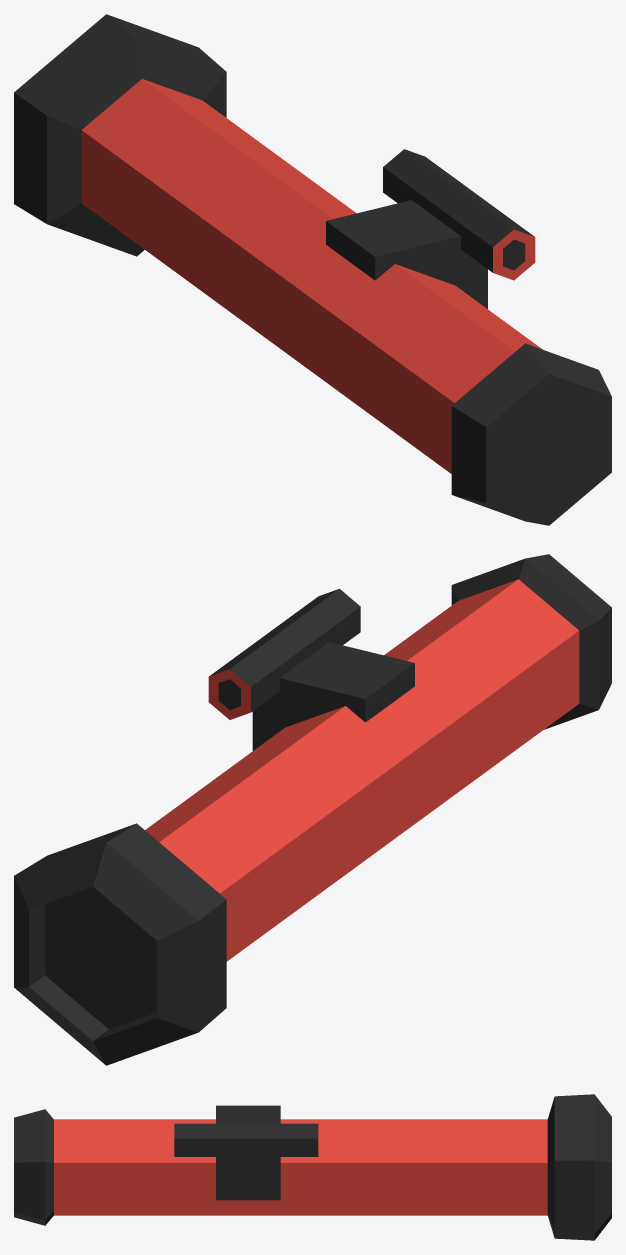
The model's file is bazooka.fbx.
The picture shows the model from 3 angles, top to bottom: view 1: azimuth 30°, elevation 25°; view 2: azimuth 150°, elevation 25°; view 3: azimuth 270°, elevation 25°; orthographic projection. The views are drawn at different scales.
Parts seen in each view (by area): view 1: Cube; view 2: Cube; view 3: Cube.
Part boxes in pixels (left/top/right/bottom): Cube: left=14, top=14, right=611, bottom=525; Cube: left=14, top=554, right=611, bottom=1065; Cube: left=14, top=1094, right=611, bottom=1240.
Bounding box in the file's own units: 143 × 152 × 562.
